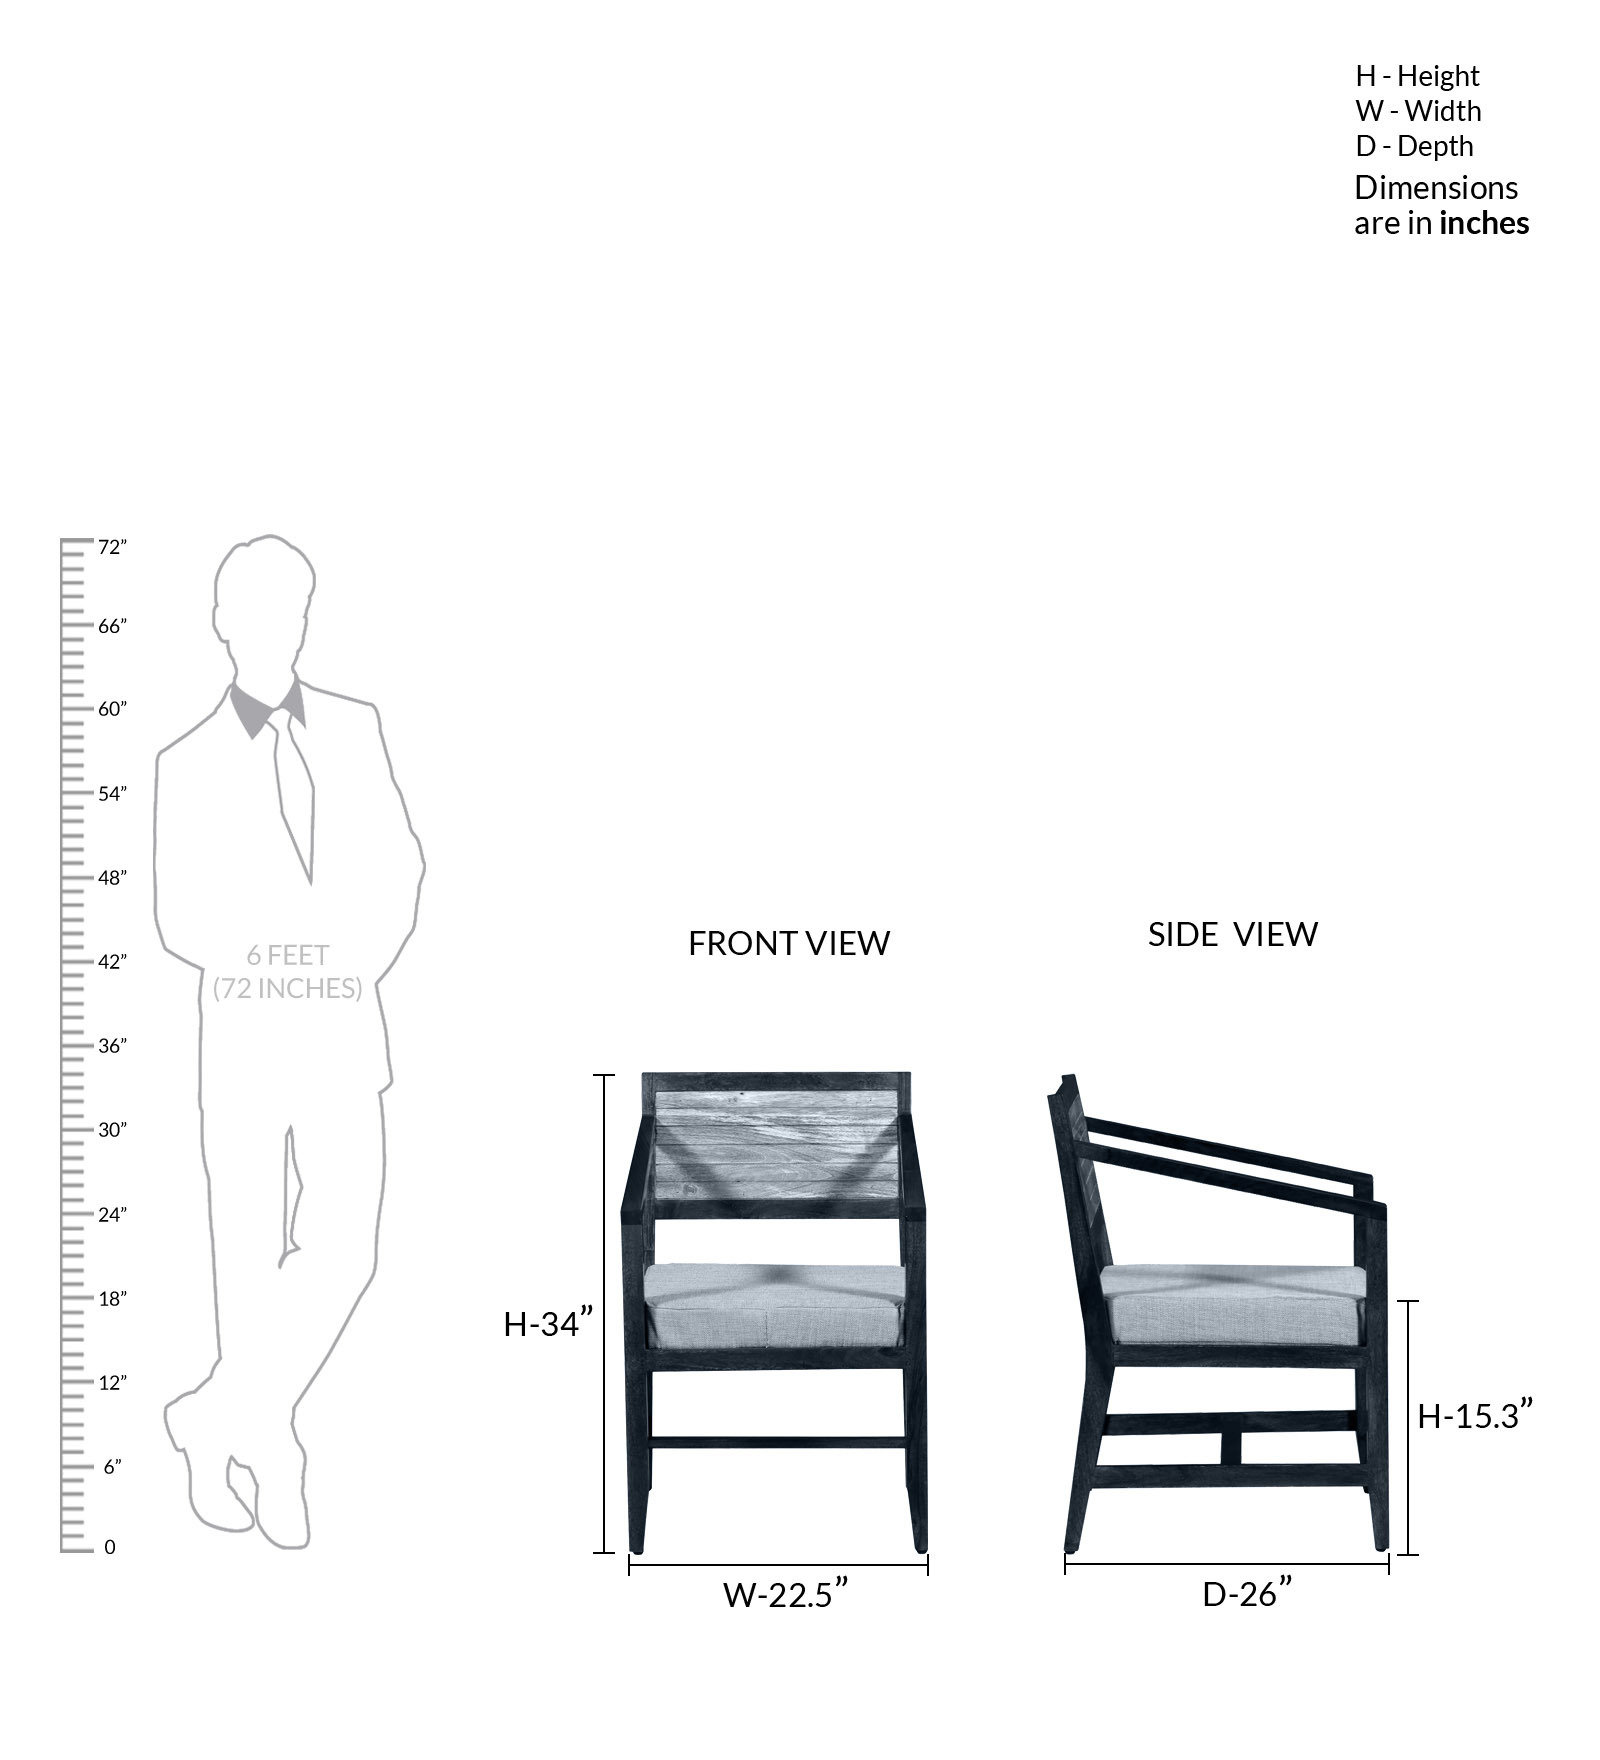Anitz Arm Chair in Dual Tone Finish by Woodsworth: (1027, 1043, 1402, 1574), (598, 1026, 962, 1561)
